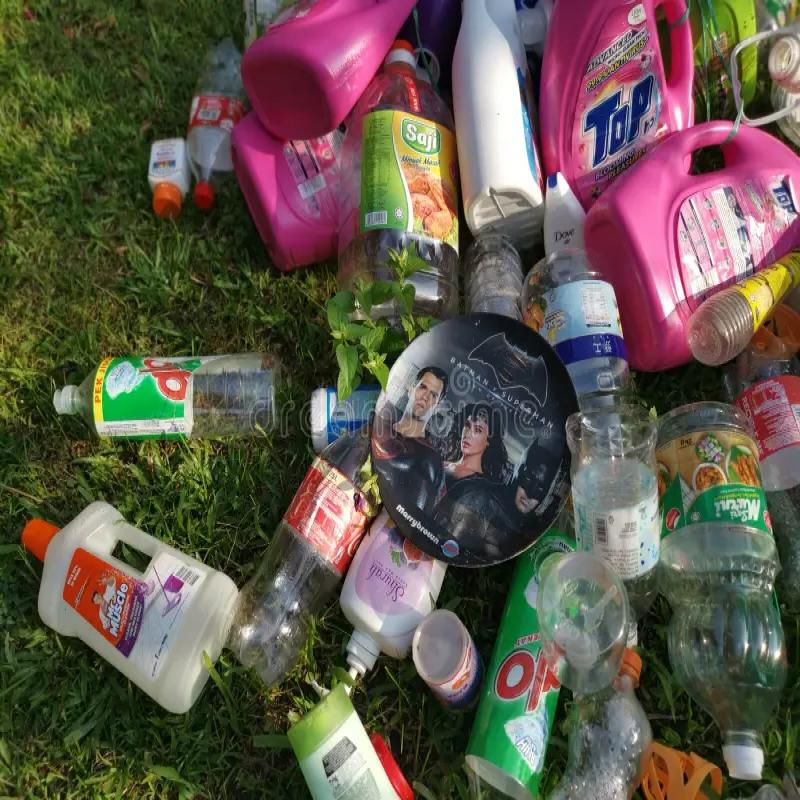botella: (643, 398, 795, 780), (221, 414, 397, 696), (524, 248, 649, 493), (735, 323, 800, 641), (574, 398, 656, 623), (552, 641, 654, 800), (534, 547, 636, 693), (194, 41, 244, 223), (463, 239, 535, 335)
